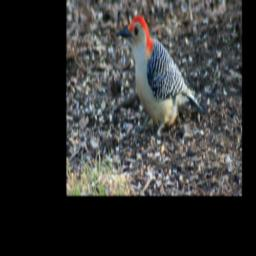Woodpecker: (117, 16, 202, 148)
